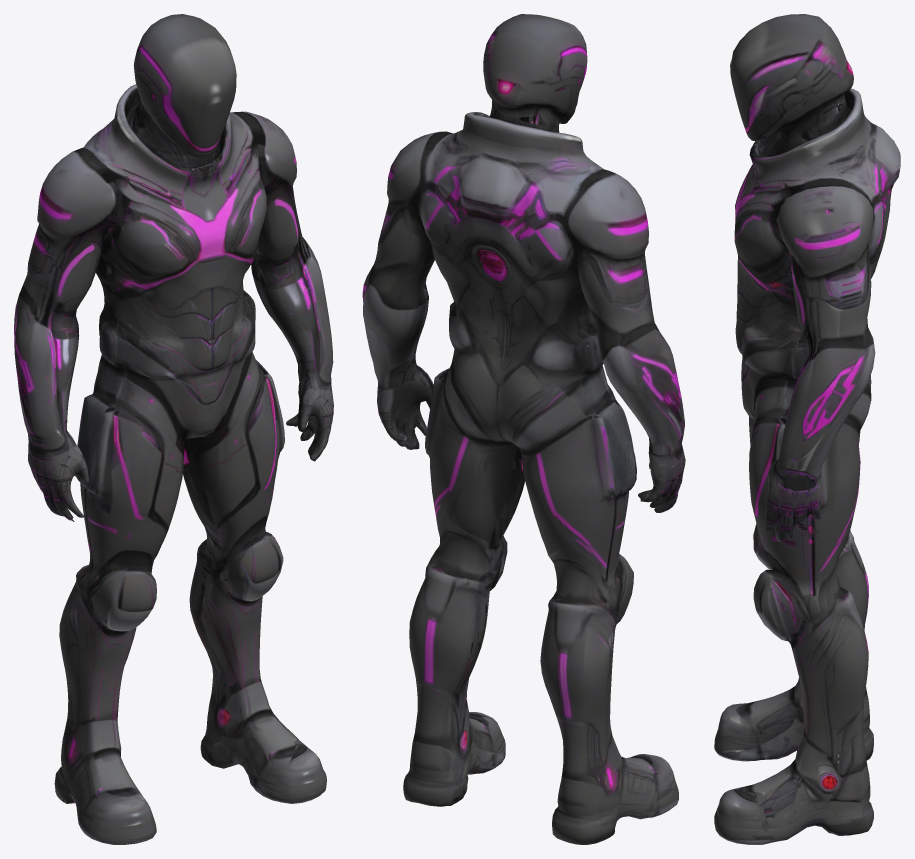
File: Animation_Standing.glb
3 views of the same model, side by side, from view 1: azimuth 30°, elevation 25°; view 2: azimuth 150°, elevation 25°; view 3: azimuth 270°, elevation 25° (orthographic).
Bounding box in the file's own units: 0.8239 × 2 × 0.4398.
1 material, 1 textured.
